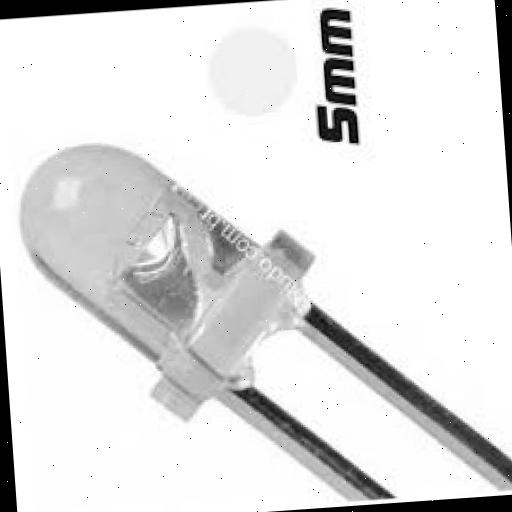LED: (8, 54, 485, 512)
